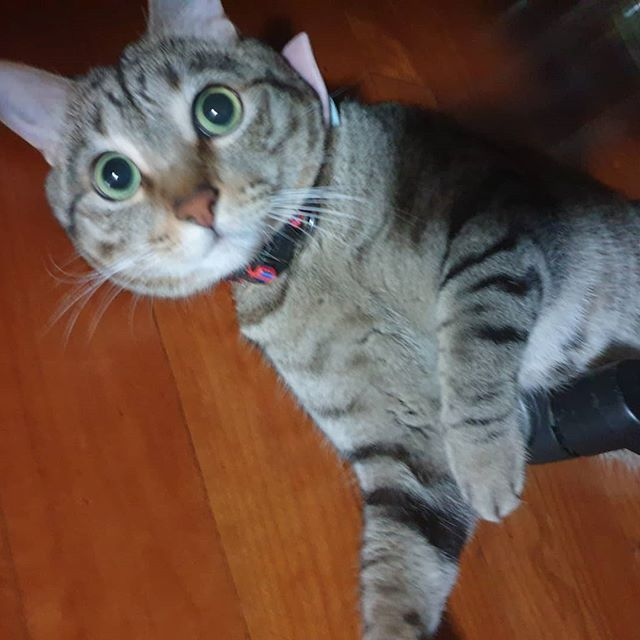cat: (13, 7, 327, 302)
